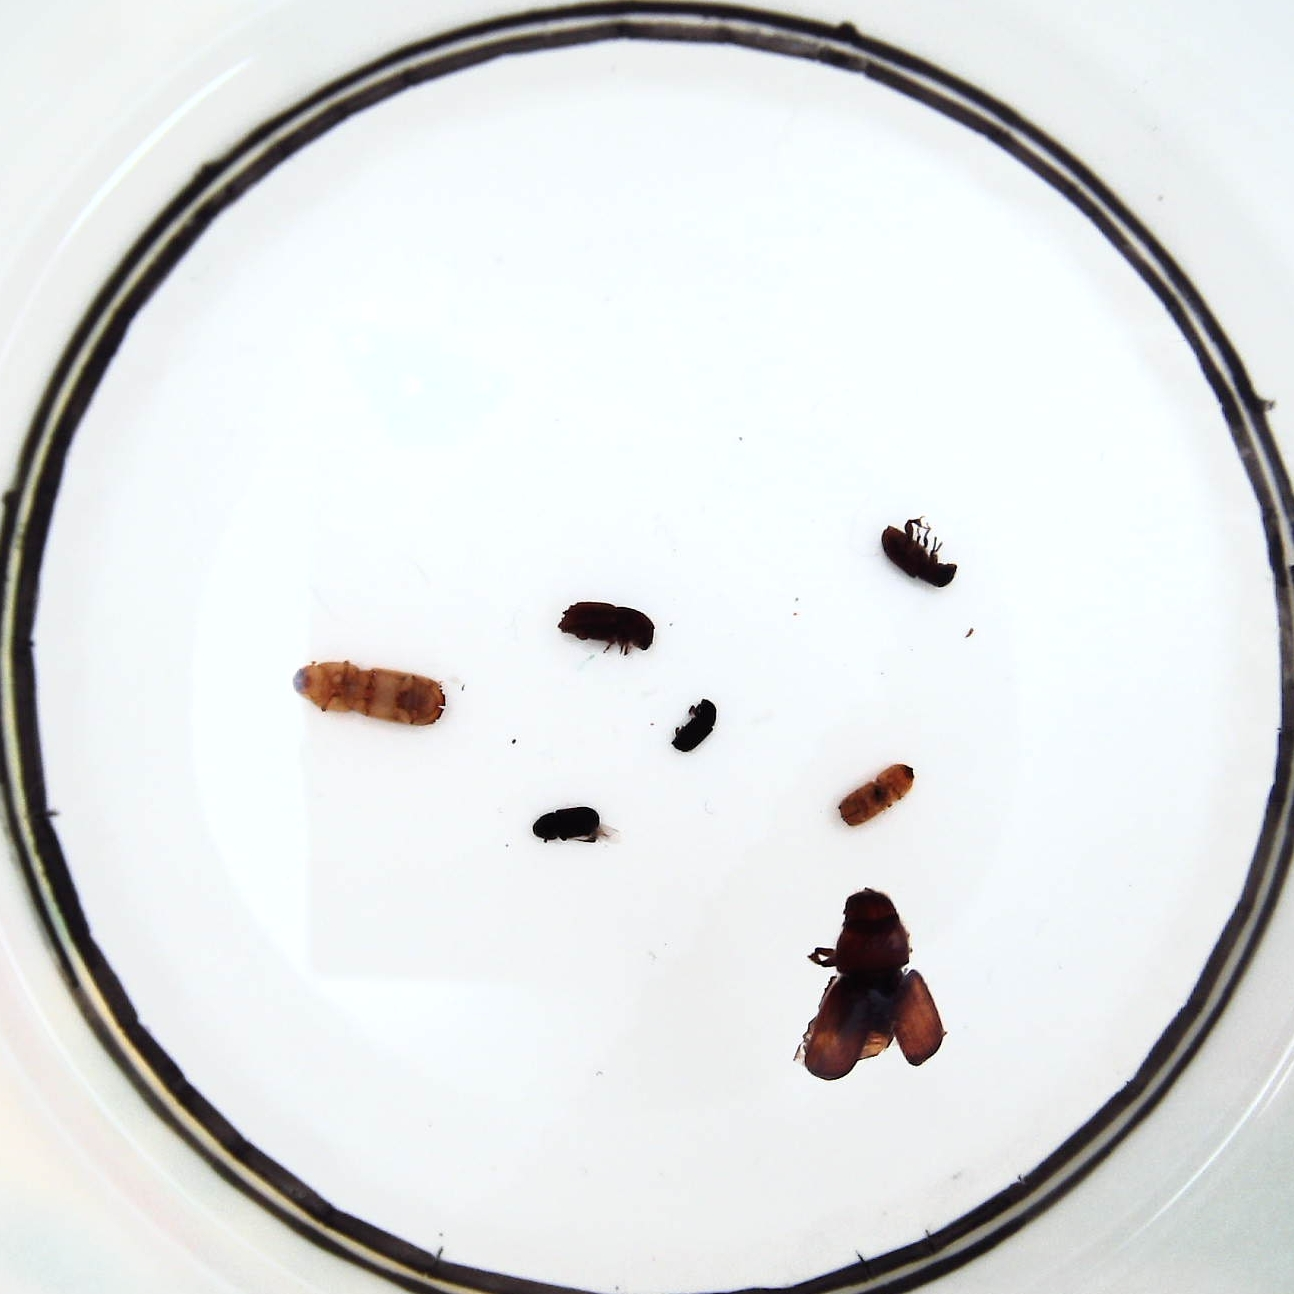Boerner: (292, 660, 446, 728)
Leconte: (803, 888, 944, 1080)
Linnaeus: (555, 598, 655, 651)
acuminatus: (835, 762, 912, 828)
armandi: (880, 517, 953, 587)
coleoptera: (670, 698, 717, 756), (529, 807, 602, 844)
